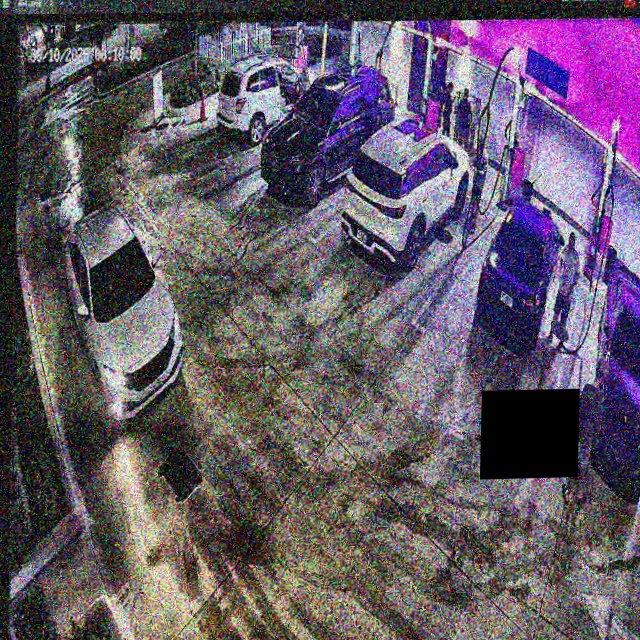Car: (61, 204, 187, 420), (341, 116, 468, 275), (257, 65, 395, 194), (476, 198, 562, 348)
